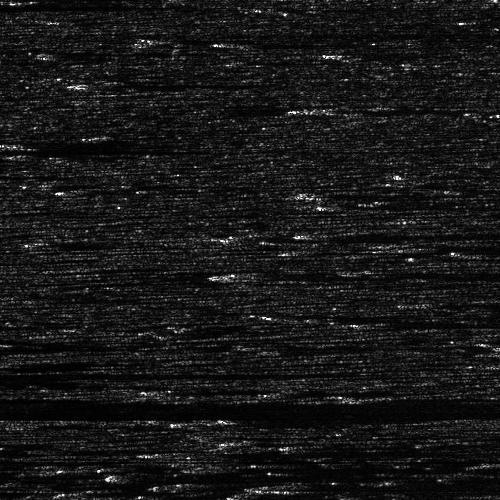object: (266, 103, 371, 114), (141, 447, 246, 456), (228, 39, 269, 46), (286, 192, 307, 195)
shadow: (0, 400, 500, 417), (318, 103, 500, 114), (194, 447, 398, 456), (0, 0, 113, 11), (0, 145, 174, 152), (249, 39, 396, 46), (297, 192, 439, 195)
